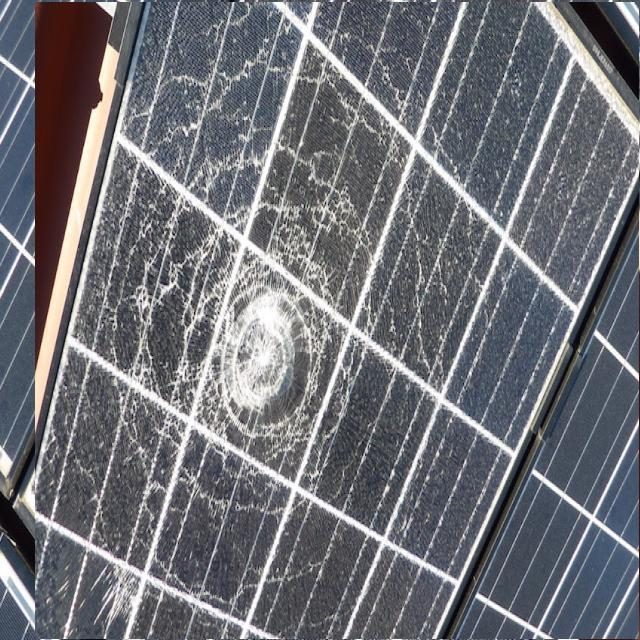Physical-damage: (36, 2, 639, 640)
